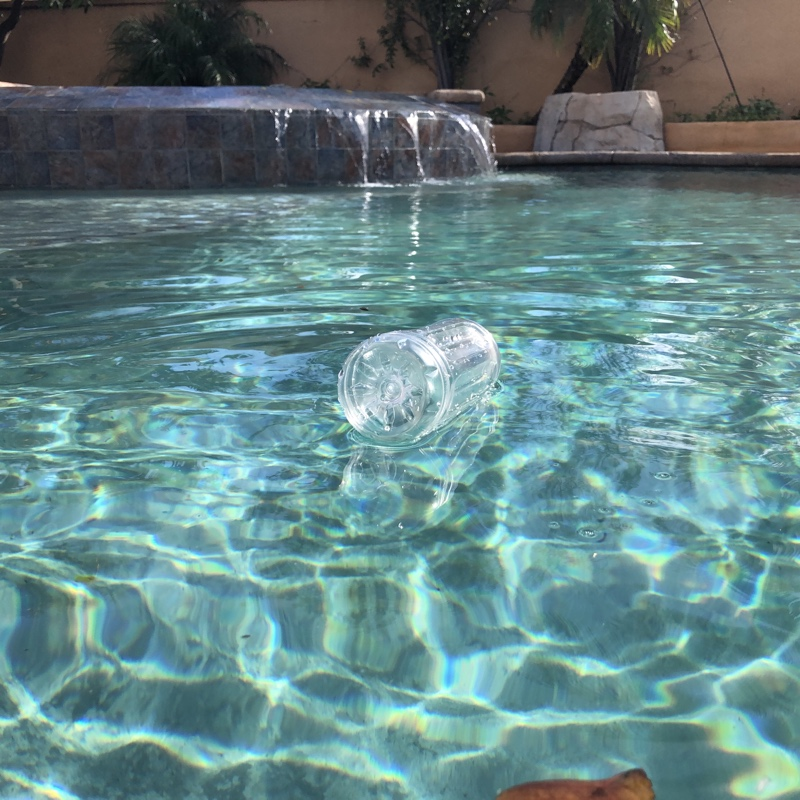Plastic Bottle: (331, 311, 505, 445)
